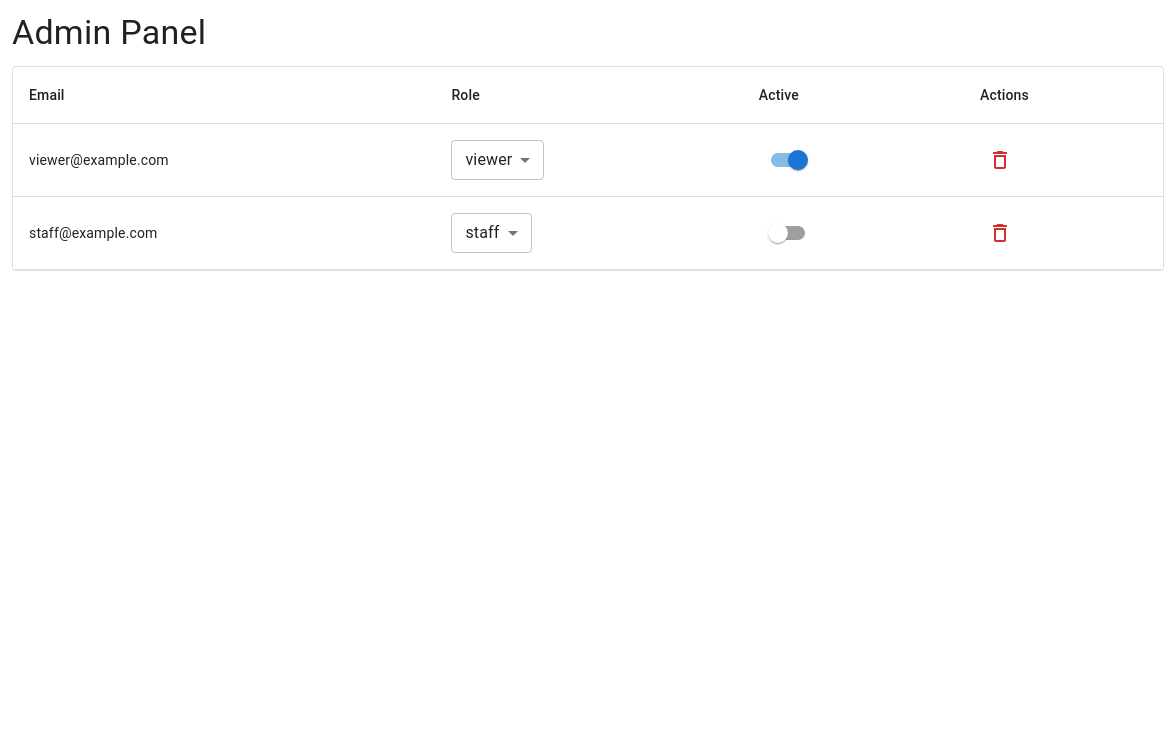
AdminPage › toggles a user's active status
Click the switch named "staff@example.com active".
click(778, 233)  # box [768,223,788,243]
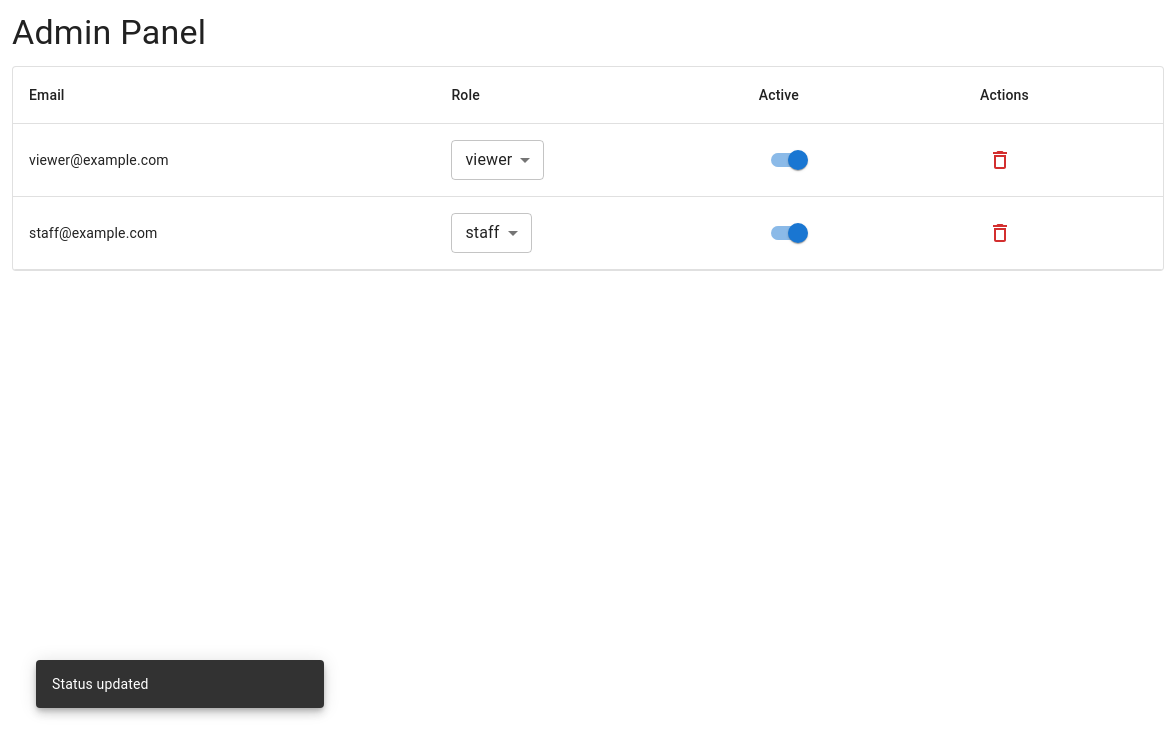
Expected: the text "Status updated" is shown, [52,676,149,692]
